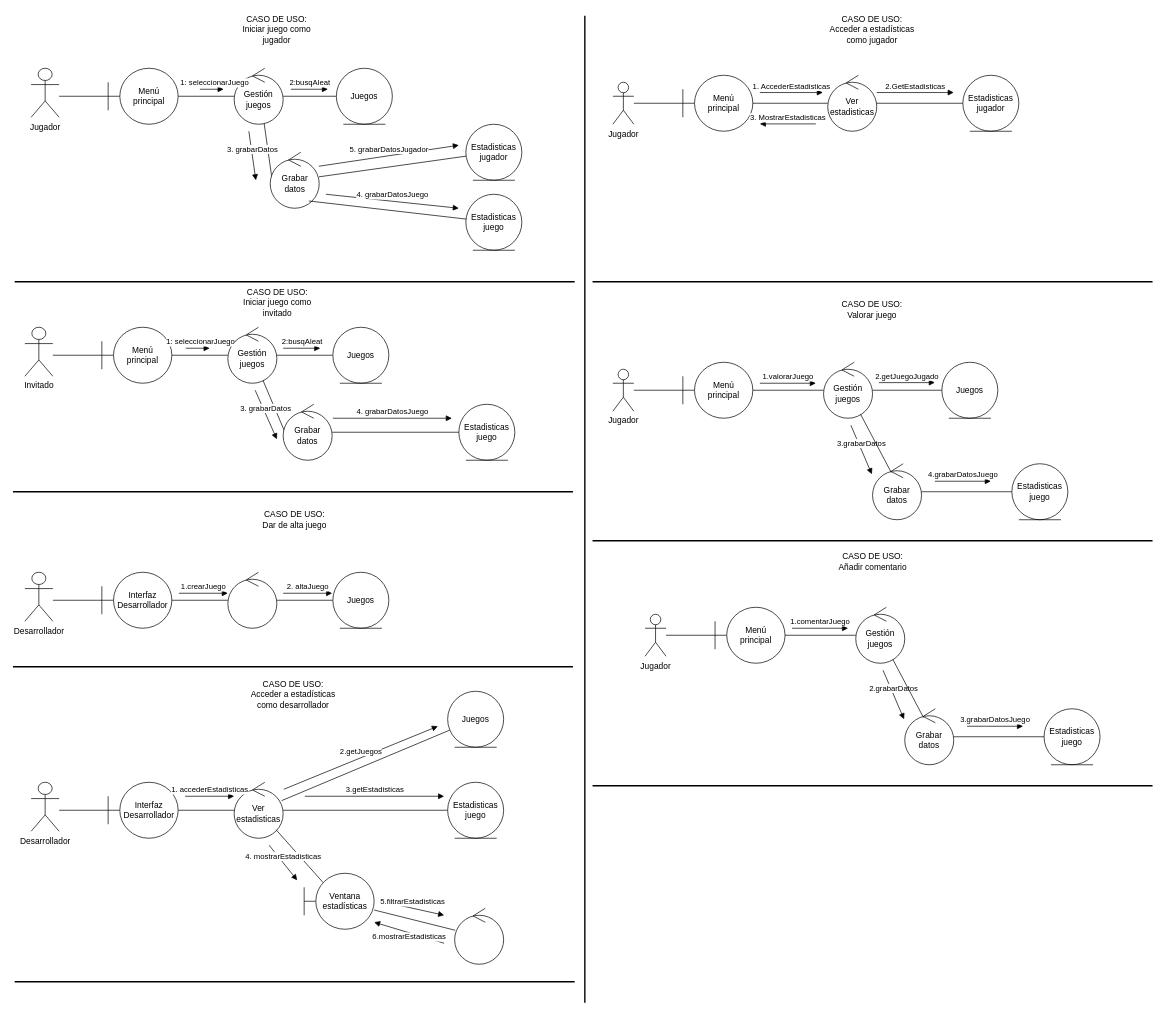
This 1165x1015 diagram has some shape labels left out. The centre of each missing label's shape, as x and y in pixels:
"AltaJuego" belongs at pixel 252 600.
"Filtrar datos" belongs at pixel 479 936.
